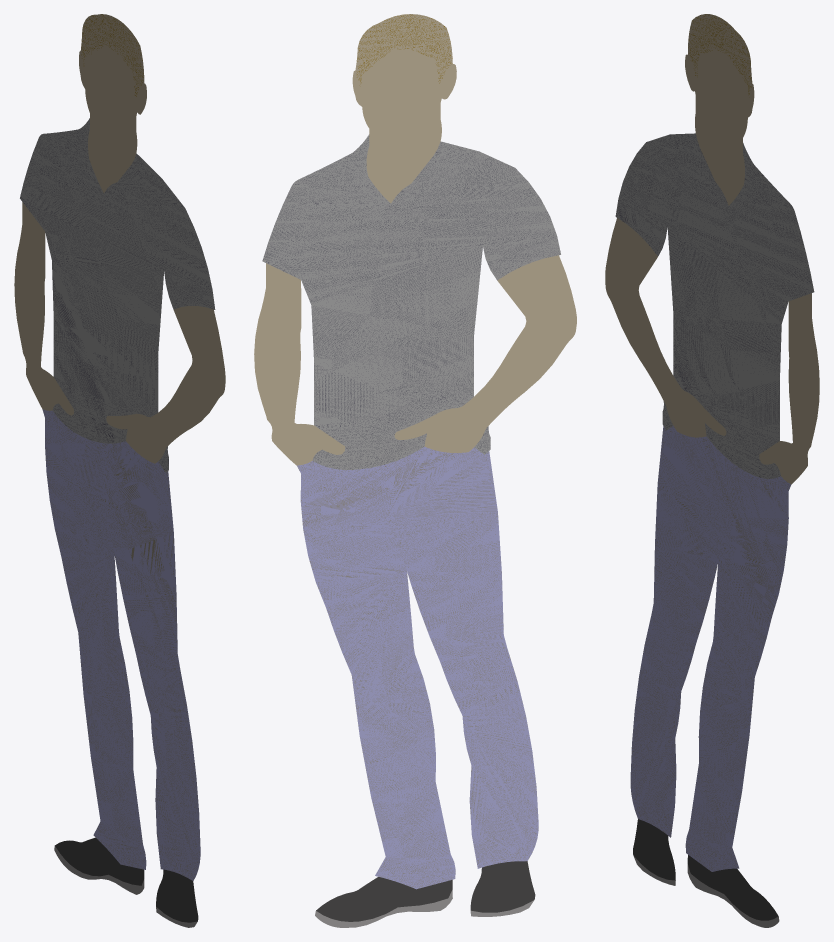
Rendered from person.fbx.
3 views of the same model, side by side, from view 1: azimuth 90°, elevation 25°; view 2: azimuth 150°, elevation 25°; view 3: azimuth 270°, elevation 25° (orthographic). The views are drawn at different scales.
Visible parts, largest first — view 1: group_0.007, group_0.002, group_0.010, group_0, group_0.001, group_0.008, group_0.003, group_0.009, group_0.005; view 2: group_0.007, group_0.002, group_0.010, group_0, group_0.001, group_0.008, group_0.003, group_0.009, group_0.005; view 3: group_0.007, group_0.002, group_0.010, group_0, group_0.001, group_0.008, group_0.003, group_0.009, group_0.005.
Part boxes in pixels (x1,y1,x2,y2): group_0.007: (42, 409, 200, 880); group_0.002: (20, 118, 215, 443); group_0.010: (106, 306, 225, 463); group_0: (79, 46, 146, 192); group_0.001: (14, 202, 73, 415); group_0.008: (80, 14, 144, 96); group_0.003: (55, 837, 144, 885); group_0.009: (156, 869, 198, 922); group_0.005: (54, 845, 144, 894); group_0.007: (297, 446, 538, 889); group_0.002: (262, 134, 560, 469); group_0.010: (394, 255, 576, 452); group_0: (352, 49, 456, 203); group_0.001: (254, 263, 345, 465); group_0.008: (355, 14, 452, 87); group_0.003: (316, 877, 452, 921); group_0.009: (470, 861, 535, 912); group_0.005: (315, 890, 452, 927); group_0.007: (630, 425, 791, 871); group_0.002: (615, 133, 814, 478); group_0.010: (605, 218, 726, 437); group_0: (685, 50, 754, 205); group_0.001: (759, 293, 819, 484); group_0.008: (688, 14, 752, 99); group_0.003: (687, 855, 778, 920); group_0.009: (633, 819, 675, 880); group_0.005: (687, 864, 779, 927).
Size of the model in its own units: 43.28 by 177 by 38.49.
